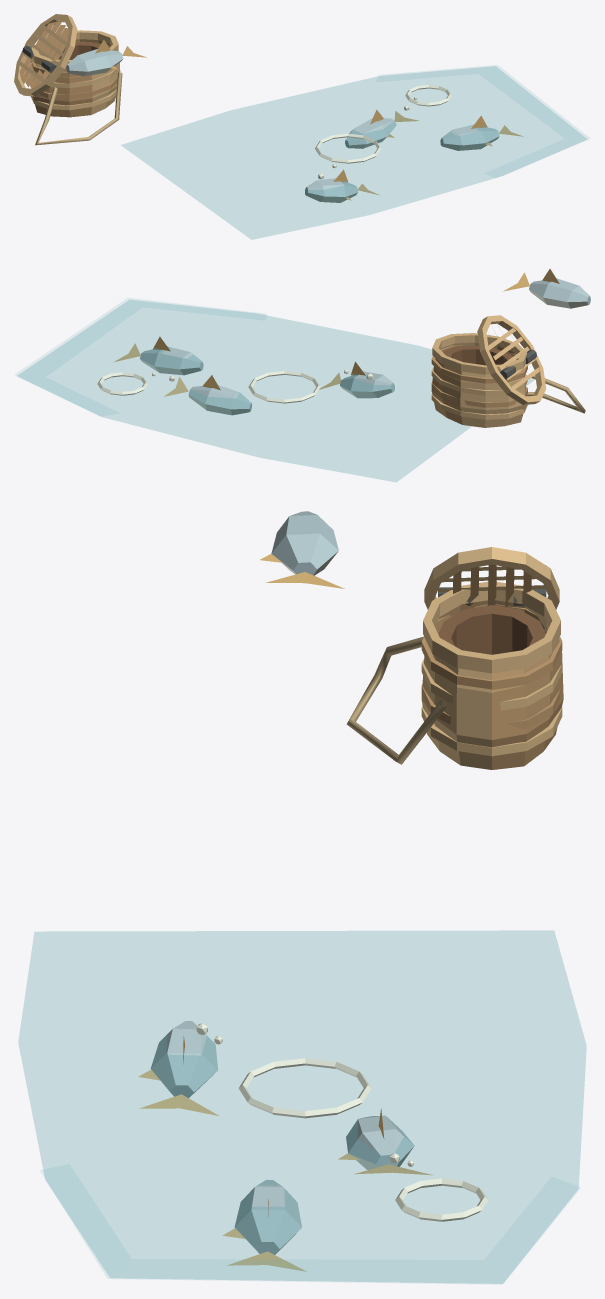
File: workyard_fishing_edge_u5_v1.glb
The picture shows the model from 3 angles, top to bottom: view 1: azimuth 30°, elevation 25°; view 2: azimuth 150°, elevation 25°; view 3: azimuth 270°, elevation 25°; orthographic projection. The views are drawn at different scales.
Parts seen in each view (by area): view 1: FishingWaterRuntimeMesh, DockCreelRuntimeMesh, FishSchoolRuntimeMesh, CatchFishRuntimeMesh, FishingRippleRuntimeMesh, CreelShoulderStrap; view 2: FishingWaterRuntimeMesh, DockCreelRuntimeMesh, FishSchoolRuntimeMesh, CatchFishRuntimeMesh, FishingRippleRuntimeMesh, CreelShoulderStrap; view 3: FishingWaterRuntimeMesh, DockCreelRuntimeMesh, FishSchoolRuntimeMesh, CatchFishRuntimeMesh, FishingRippleRuntimeMesh, CreelShoulderStrap.
Part boxes in pixels (left/top/right/bottom): FishingWaterRuntimeMesh: left=121, top=65, right=589, bottom=239; DockCreelRuntimeMesh: left=14, top=14, right=120, bottom=117; FishSchoolRuntimeMesh: left=305, top=110, right=523, bottom=202; CatchFishRuntimeMesh: left=66, top=40, right=146, bottom=76; FishingRippleRuntimeMesh: left=315, top=85, right=451, bottom=163; CreelShoulderStrap: left=35, top=72, right=122, bottom=145; FishingWaterRuntimeMesh: left=15, top=298, right=534, bottom=481; DockCreelRuntimeMesh: left=431, top=315, right=546, bottom=427; FishSchoolRuntimeMesh: left=113, top=336, right=394, bottom=415; CatchFishRuntimeMesh: left=503, top=269, right=590, bottom=308; FishingRippleRuntimeMesh: left=97, top=371, right=320, bottom=403; CreelShoulderStrap: left=526, top=375, right=585, bottom=413; FishingWaterRuntimeMesh: left=18, top=930, right=586, bottom=1283; DockCreelRuntimeMesh: left=421, top=547, right=563, bottom=769; FishSchoolRuntimeMesh: left=138, top=1021, right=432, bottom=1271; CatchFishRuntimeMesh: left=260, top=511, right=344, bottom=588; FishingRippleRuntimeMesh: left=238, top=1058, right=488, bottom=1221; CreelShoulderStrap: left=346, top=636, right=446, bottom=764.
Bounding box in the file's own units: 4.21 × 1.54 × 2.1.
